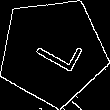L_NW: (23, 26, 82, 77)
